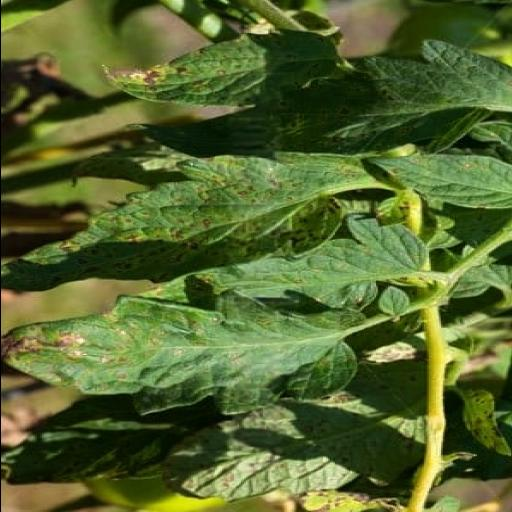disease_tomato: (0, 150, 382, 292), (0, 290, 369, 415), (136, 37, 512, 158), (158, 358, 430, 502), (194, 211, 430, 313), (96, 30, 354, 106), (366, 152, 512, 212)
